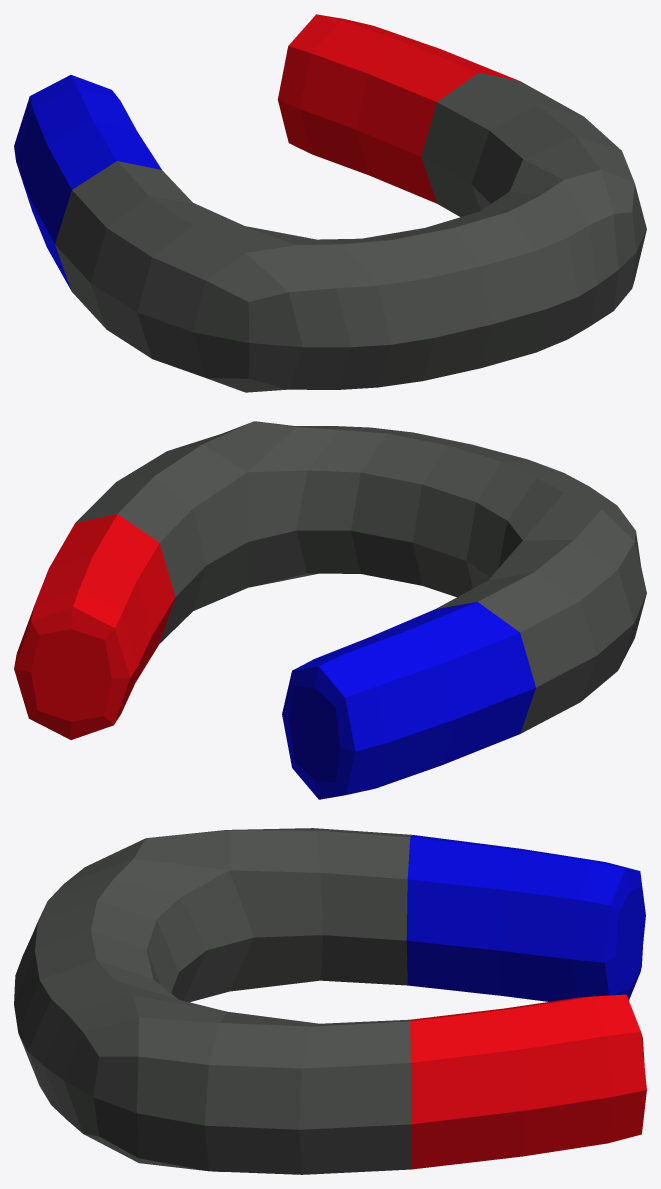
File: Magnet.fbx
3 renders of one model, top to bottom at view 1: azimuth 30°, elevation 25°; view 2: azimuth 150°, elevation 25°; view 3: azimuth 270°, elevation 25°, orthographic. The views are drawn at different scales.
Visible parts, largest first — view 1: Cube; view 2: Cube; view 3: Cube.
Part boxes in pixels (x1=…): Cube: x1=14, y1=14, x2=646, y2=392; Cube: x1=14, y1=421, x2=646, y2=799; Cube: x1=14, y1=828, x2=646, y2=1174.
Bounding box in the file's own units: 302 × 81.68 × 315.
